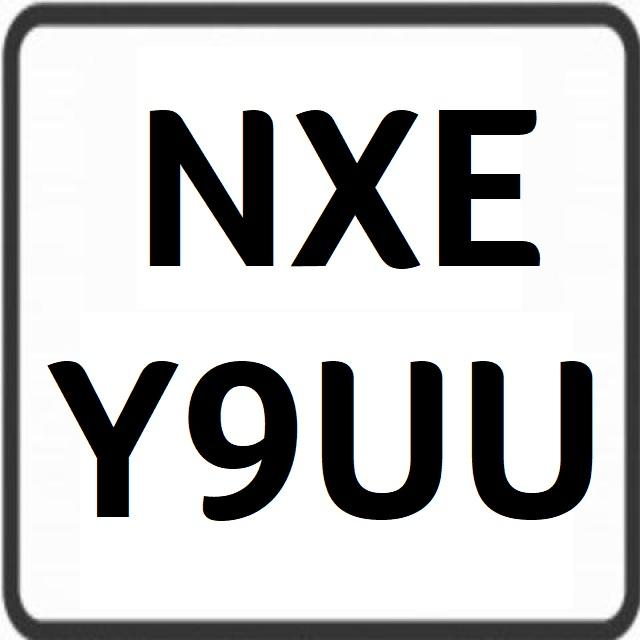E: (434, 73, 551, 285)
N: (144, 78, 286, 284)
X: (291, 84, 428, 284)
Y: (42, 338, 174, 542)
